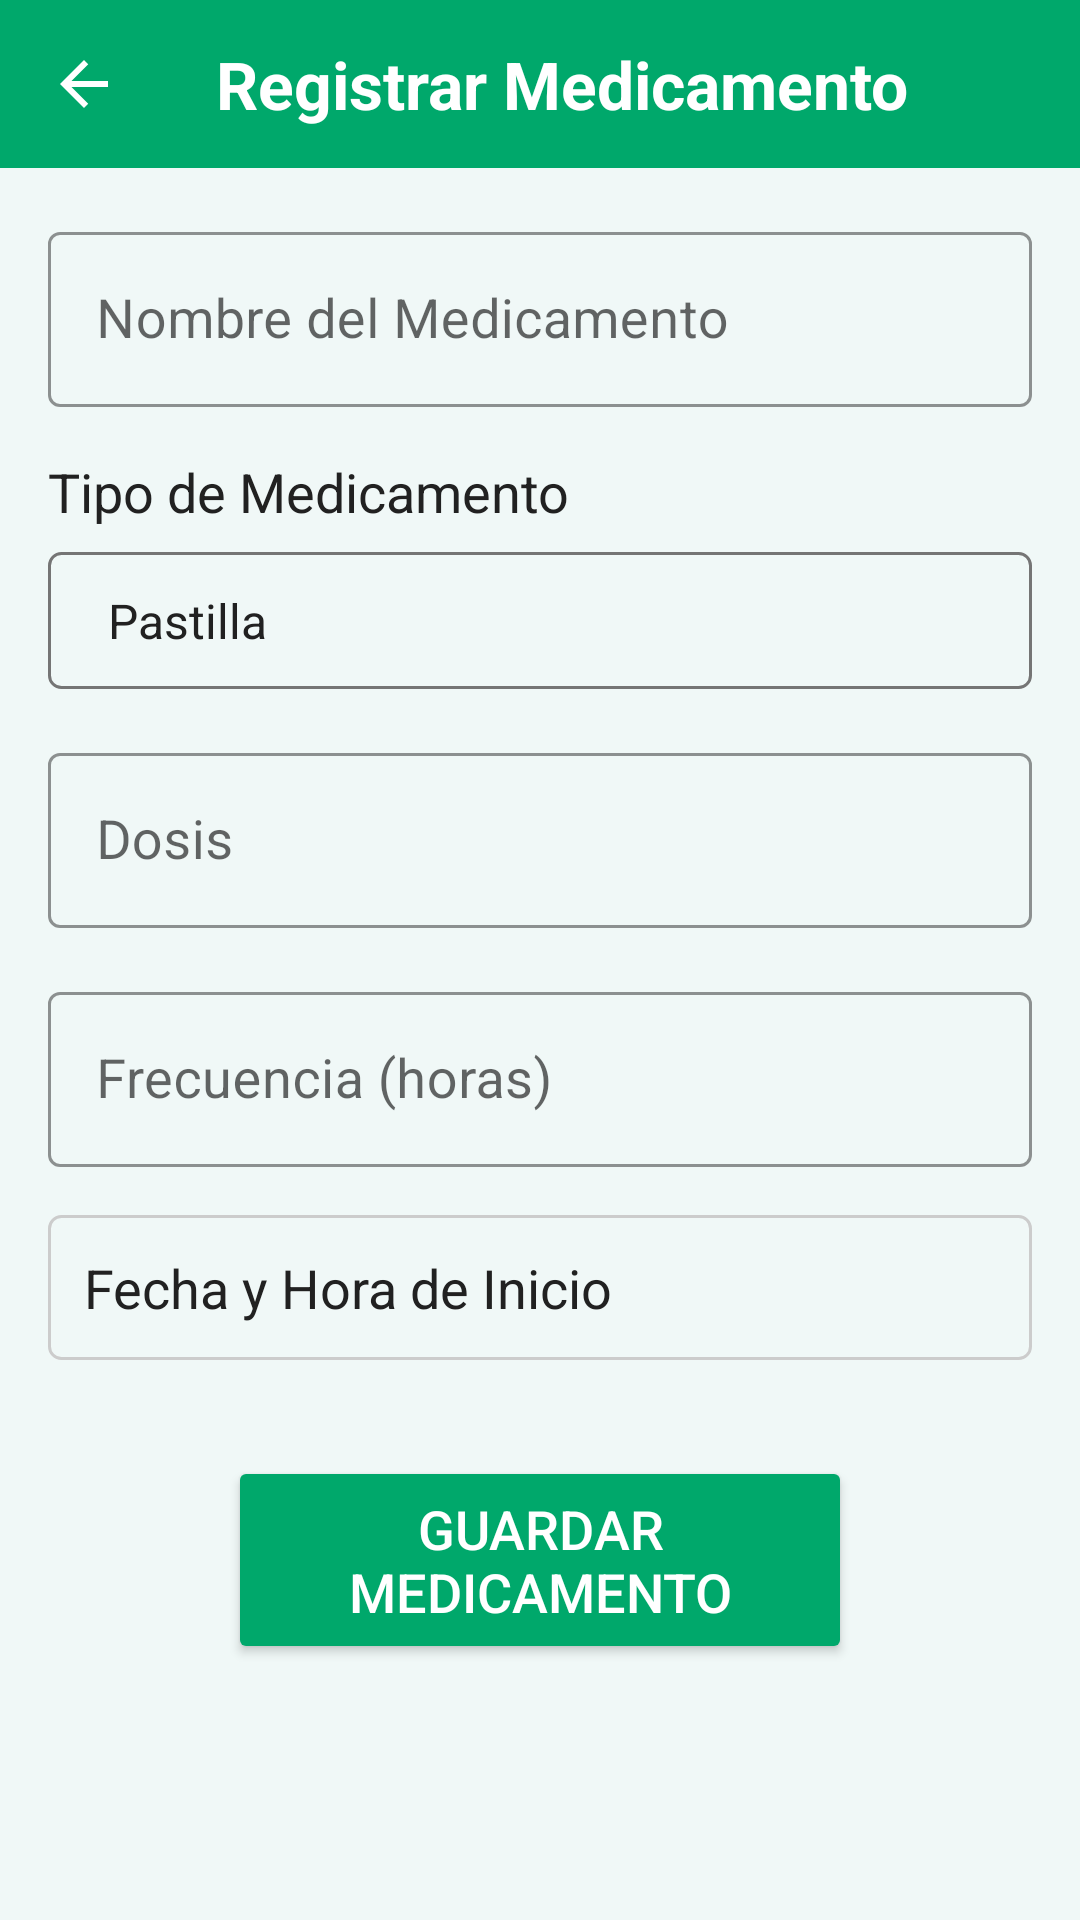

Named icons in this screenshot (1080×1920) and their centers, [x,y]:
Volver atrás: [84,84]
